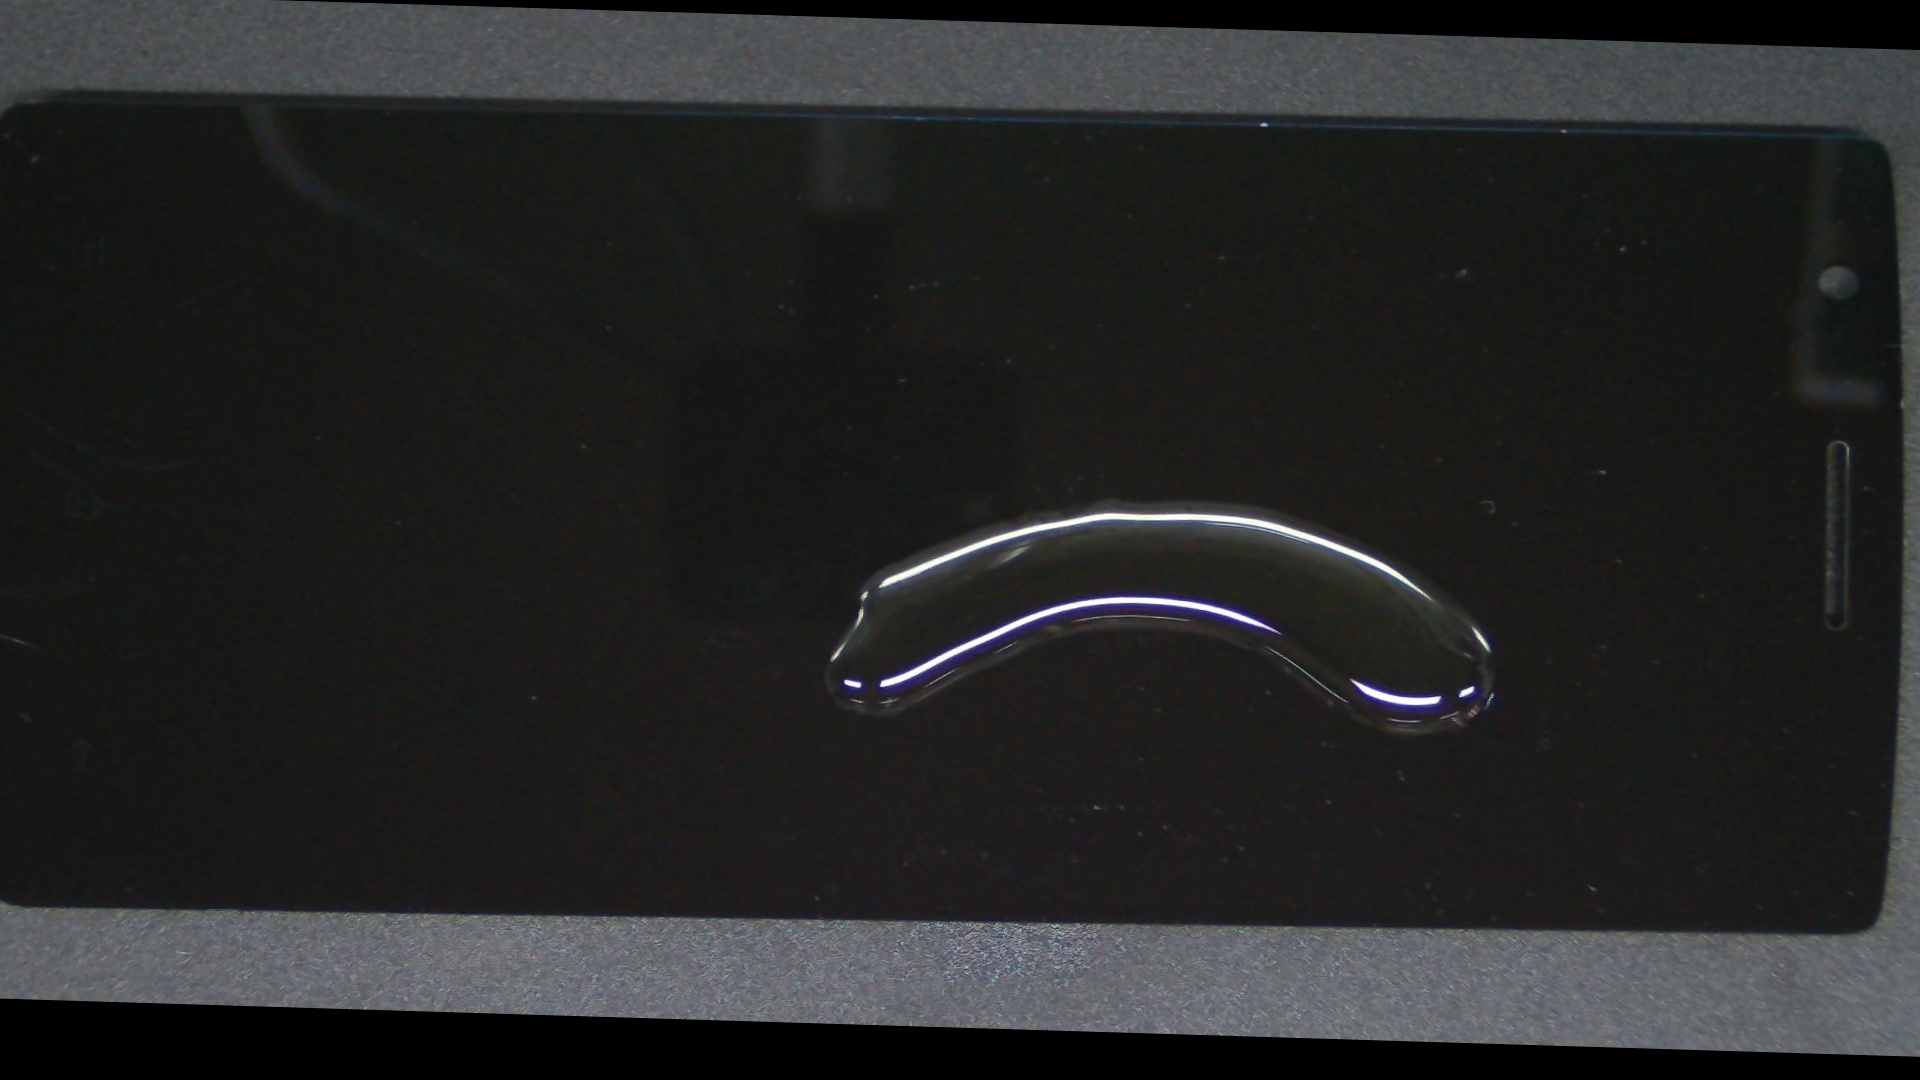oil: (475, 241, 1751, 752)
